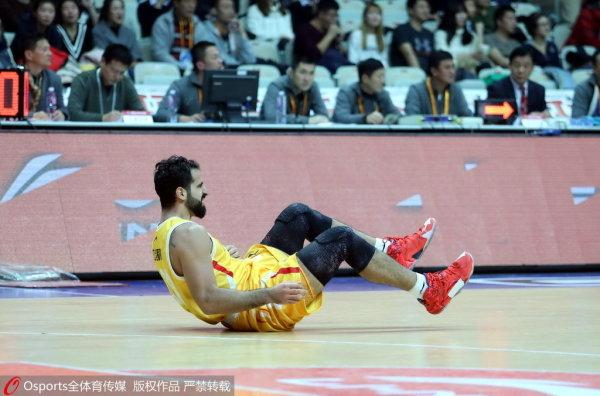down: (124, 154, 488, 341)
